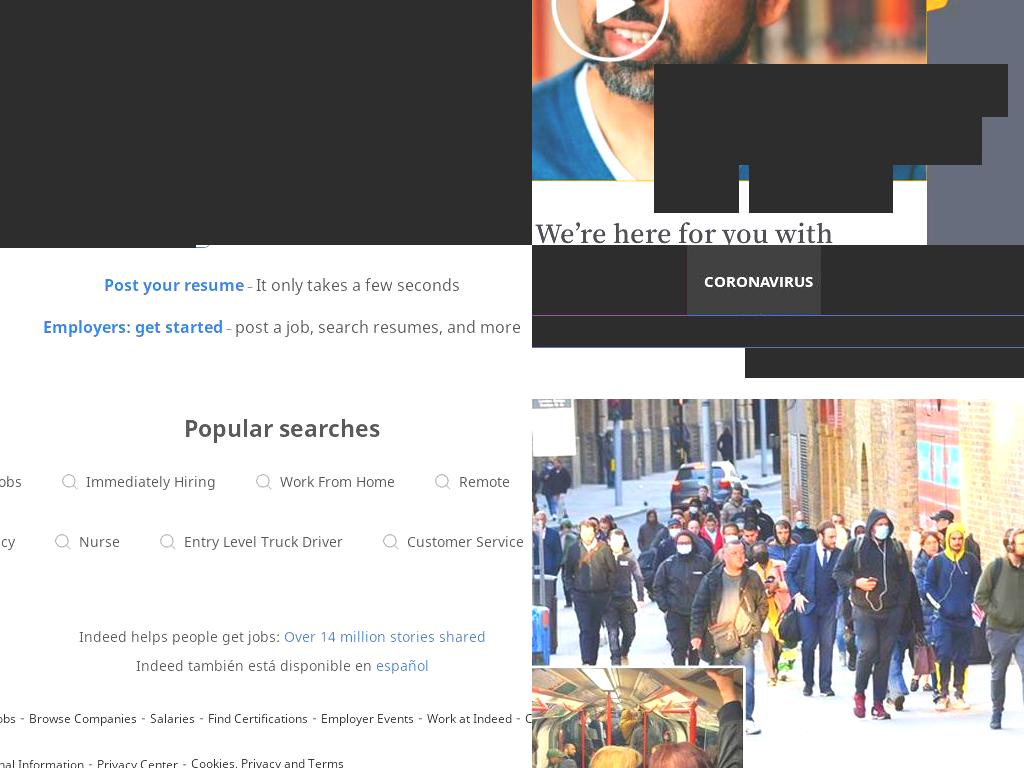button: (532, 399, 1024, 768), (532, 0, 927, 182), (532, 316, 1024, 347), (532, 245, 687, 315), (144, 518, 359, 566), (45, 458, 232, 506), (696, 245, 822, 315), (239, 458, 411, 506), (367, 518, 532, 566), (897, 245, 980, 315), (821, 245, 898, 315), (418, 458, 526, 506), (39, 518, 136, 566), (801, 348, 916, 378), (979, 245, 1024, 315), (191, 754, 344, 768), (0, 458, 38, 506), (916, 348, 974, 378), (745, 348, 801, 378), (974, 348, 1024, 378), (0, 518, 31, 566)
field: (0, 20, 467, 79)
heading: (654, 64, 1008, 117), (654, 112, 982, 165), (749, 160, 893, 213), (654, 160, 739, 213)
image: (532, 399, 1024, 768), (0, 0, 532, 245), (711, 0, 1024, 245), (532, 0, 927, 182), (722, 316, 1024, 347)
link: (283, 627, 486, 646), (29, 710, 137, 727), (208, 710, 308, 727), (321, 710, 414, 727), (427, 710, 512, 727), (375, 656, 429, 675), (0, 756, 84, 768), (97, 756, 178, 768), (150, 710, 195, 727), (518, 180, 532, 200), (0, 710, 16, 727)
text: (0, 414, 532, 442), (532, 217, 876, 245), (235, 316, 521, 338), (135, 656, 376, 675), (256, 274, 460, 296), (43, 316, 223, 338), (78, 627, 284, 646), (184, 532, 343, 552), (104, 274, 244, 296), (85, 472, 216, 492), (407, 532, 524, 552), (279, 472, 395, 492), (458, 472, 510, 492), (79, 532, 120, 552), (0, 472, 22, 492), (0, 532, 15, 552), (61, 474, 78, 490), (255, 474, 272, 490), (434, 474, 451, 490), (55, 534, 71, 550), (160, 534, 176, 550), (383, 534, 399, 550), (244, 278, 256, 295), (223, 320, 235, 337)
